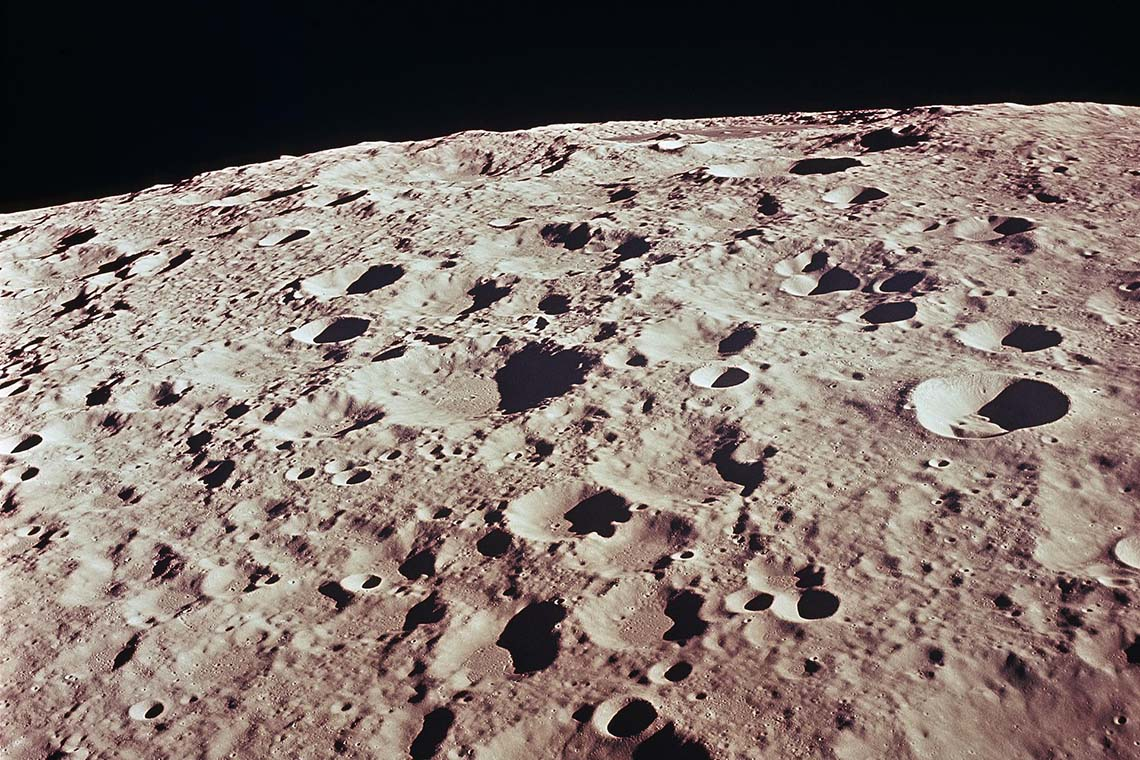crater: (879, 362, 1138, 455), (657, 154, 892, 193), (94, 678, 182, 751)
